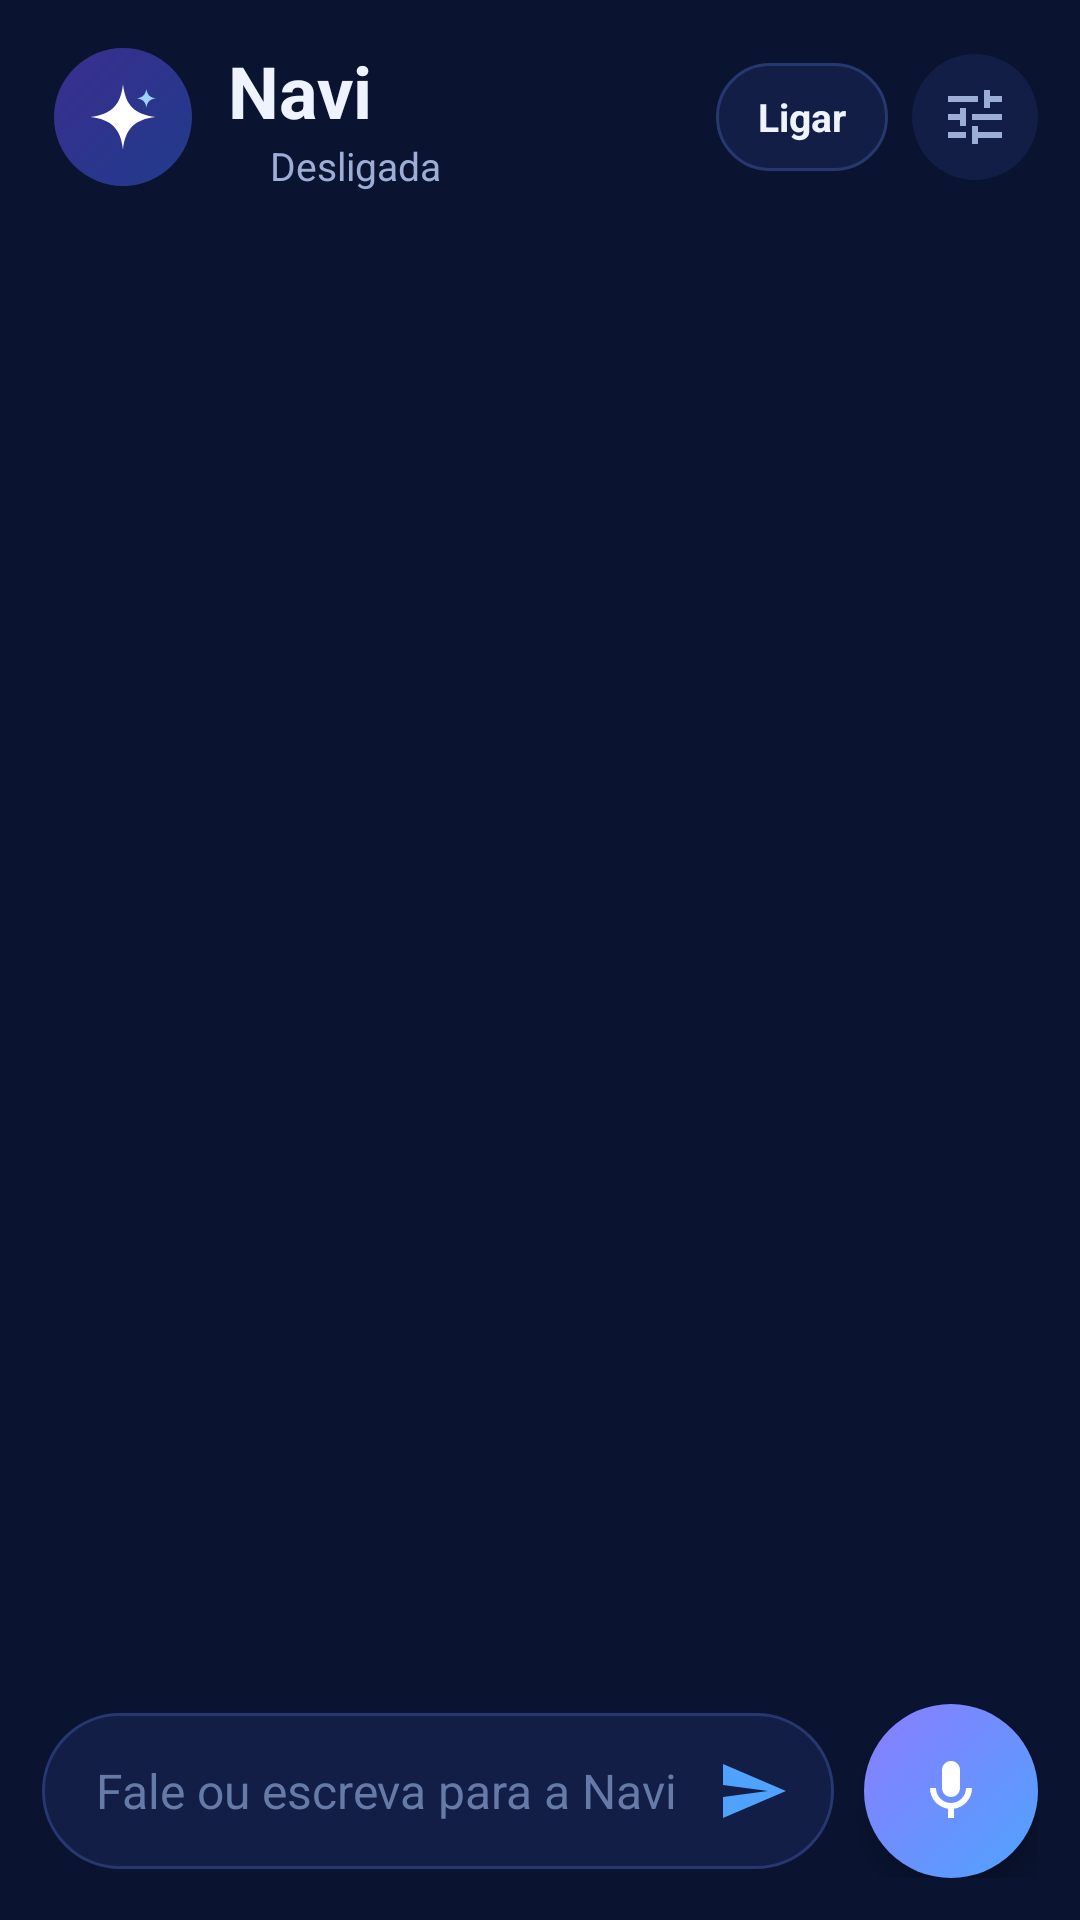

Point at icon controls on the screen. Image size 1080×1920, points as (x,y).
Ajustes: (975,117)
Enviar: (754,1791)
Falar com a Navi: (951,1791)
